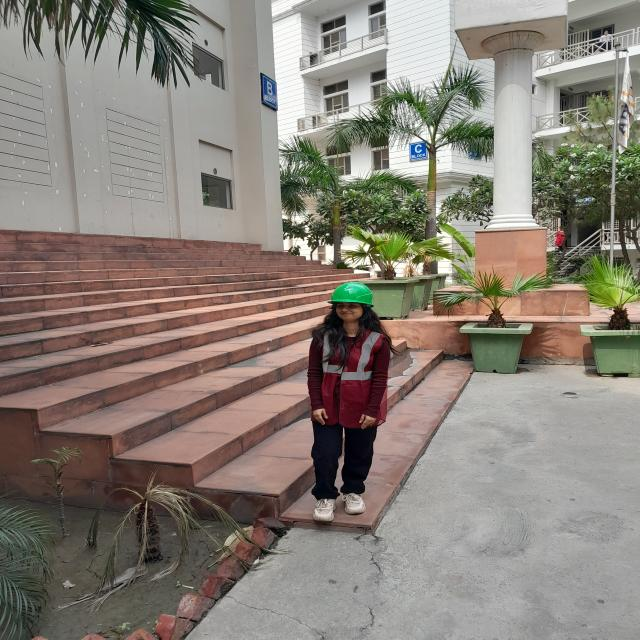safe: (308, 283, 390, 521)
